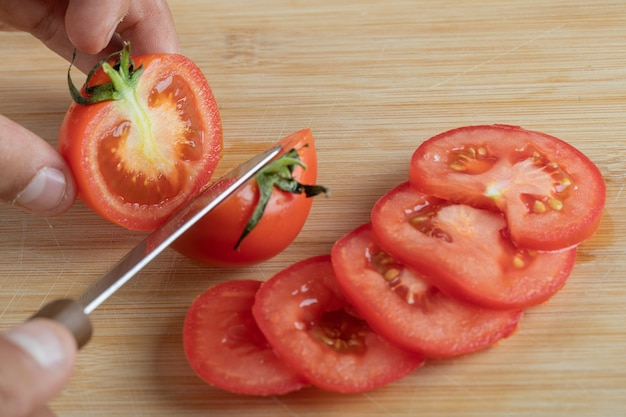knife: (29, 141, 285, 352)
